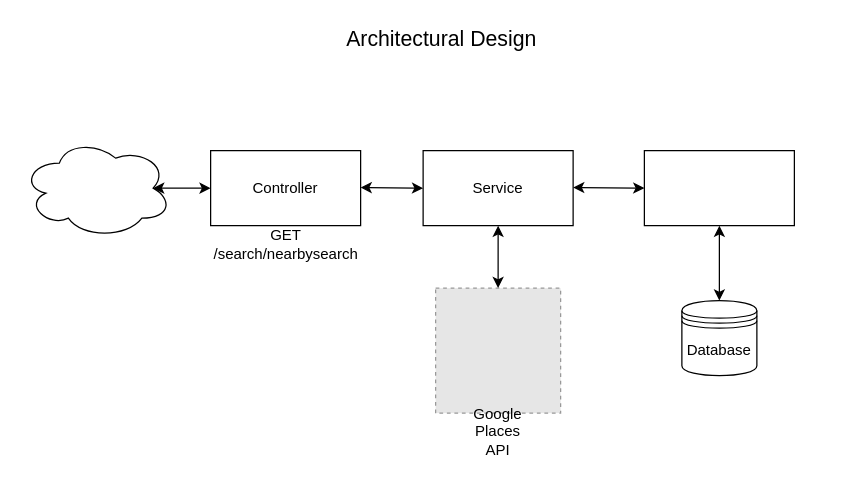
This 845x480 diagram has some shape labels left out. Grey dashed boxes stand in for pictures. The shapes that lost their labels are listed below. From the top down, each one's box as (x1, y1, x2, y2) in pixels, then its label:
(21, 137, 172, 238): Client
(643, 149, 794, 226): Repository
